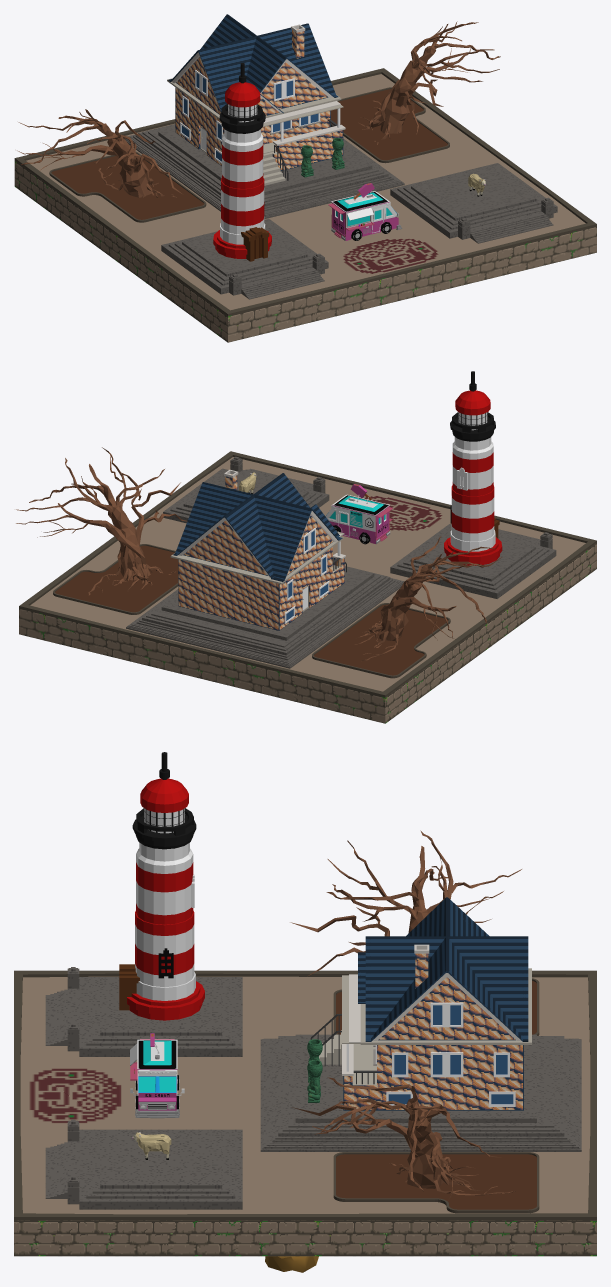
3 renders of one model, top to bottom at view 1: azimuth 30°, elevation 25°; view 2: azimuth 150°, elevation 25°; view 3: azimuth 270°, elevation 25°, orthographic. The views are drawn at different scales.
Parts seen in each view (by area): view 1: Cube.011, Cube.430, OBJRANDOM_LIGHTHOUSE, VEHICLES_ICE_CREAM_TRUCK; view 2: Cube.011, Cube.430, OBJRANDOM_LIGHTHOUSE, VEHICLES_ICE_CREAM_TRUCK; view 3: Cube.011, Cube.430, OBJRANDOM_LIGHTHOUSE, VEHICLES_ICE_CREAM_TRUCK, UNDERGROUND_T_REX_BONES.
Boxes of the visible parts, box(x1,y1,x2,y2) form: Cube.011: box(14, 21, 596, 342); Cube.430: box(167, 14, 345, 185); OBJRANDOM_LIGHTHOUSE: box(213, 63, 271, 261); VEHICLES_ICE_CREAM_TRUCK: box(328, 183, 402, 240); Cube.011: box(16, 447, 596, 723); Cube.430: box(170, 469, 346, 630); OBJRANDOM_LIGHTHOUSE: box(444, 371, 502, 565); VEHICLES_ICE_CREAM_TRUCK: box(325, 484, 393, 544); Cube.011: box(14, 830, 596, 1256); Cube.430: box(310, 897, 531, 1110); OBJRANDOM_LIGHTHOUSE: box(119, 752, 204, 1020); VEHICLES_ICE_CREAM_TRUCK: box(130, 1033, 184, 1118); UNDERGROUND_T_REX_BONES: box(265, 1256, 318, 1272).
Size of the model in its own units: 5099 by 2488 by 4000.
Materials: 47 (6 with a texture image).
